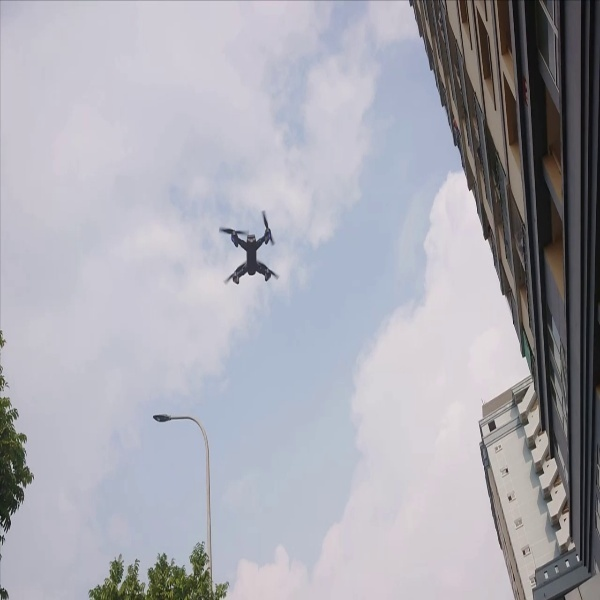drone: (210, 205, 287, 295)
